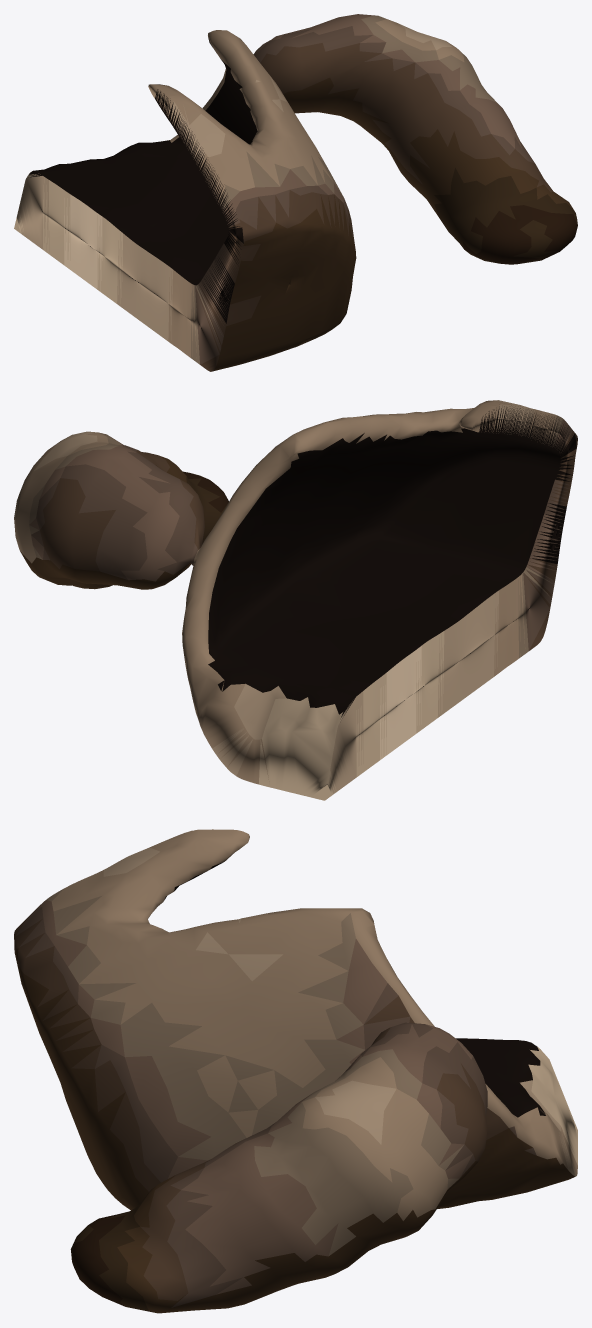
File: tan_dome_br_wreck.glb
3 views of the same model, one above another, from view 1: azimuth 30°, elevation 25°; view 2: azimuth 150°, elevation 25°; view 3: azimuth 270°, elevation 25° (orthographic). The views are drawn at different scales.
Visible parts, largest first — view 1: tan_dome_br_wreck; view 2: tan_dome_br_wreck; view 3: tan_dome_br_wreck.
Boxes of the visible parts, <box> form: tan_dome_br_wreck: <box>14,14,577,371</box>; tan_dome_br_wreck: <box>14,400,577,800</box>; tan_dome_br_wreck: <box>14,829,577,1313</box>.
Size of the model in its own units: 21.95 by 13.52 by 22.96.
